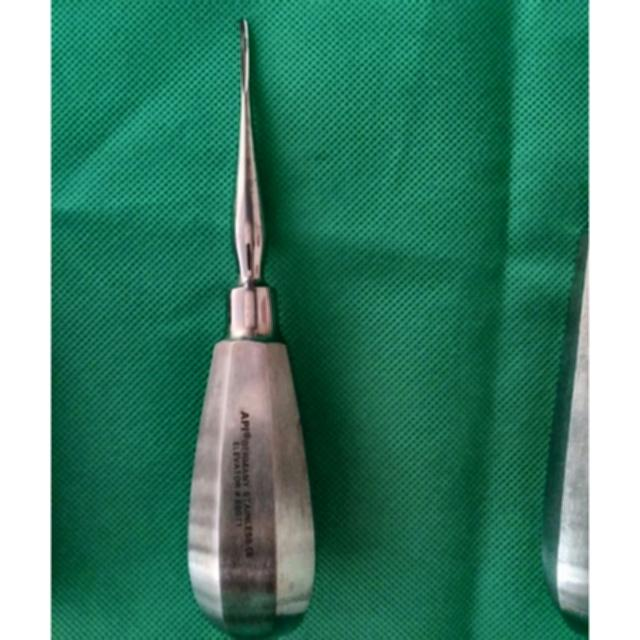botador: (187, 19, 316, 639)
